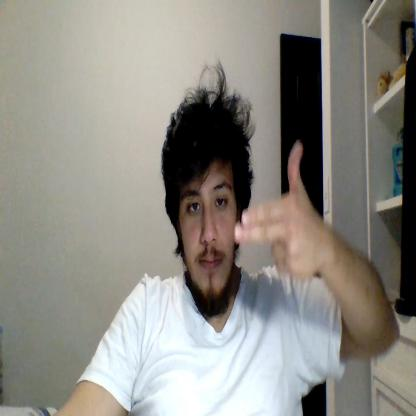H: (234, 140, 320, 278)
